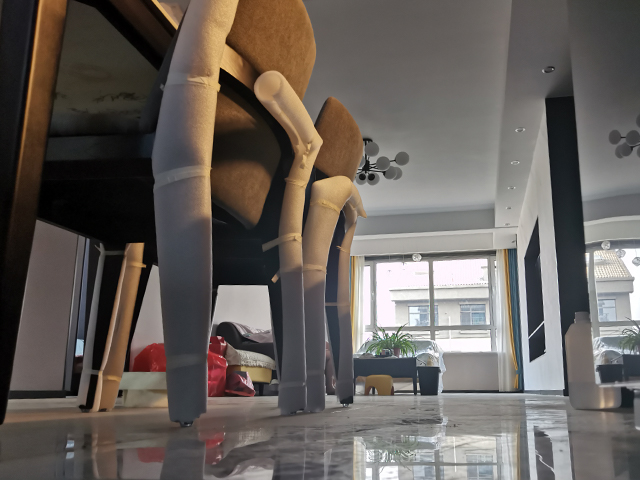curtain: (496, 248, 522, 393)
stool: (1, 1, 318, 428), (362, 373, 395, 397)
table: (347, 356, 420, 395)
trashcan: (417, 365, 442, 397)
